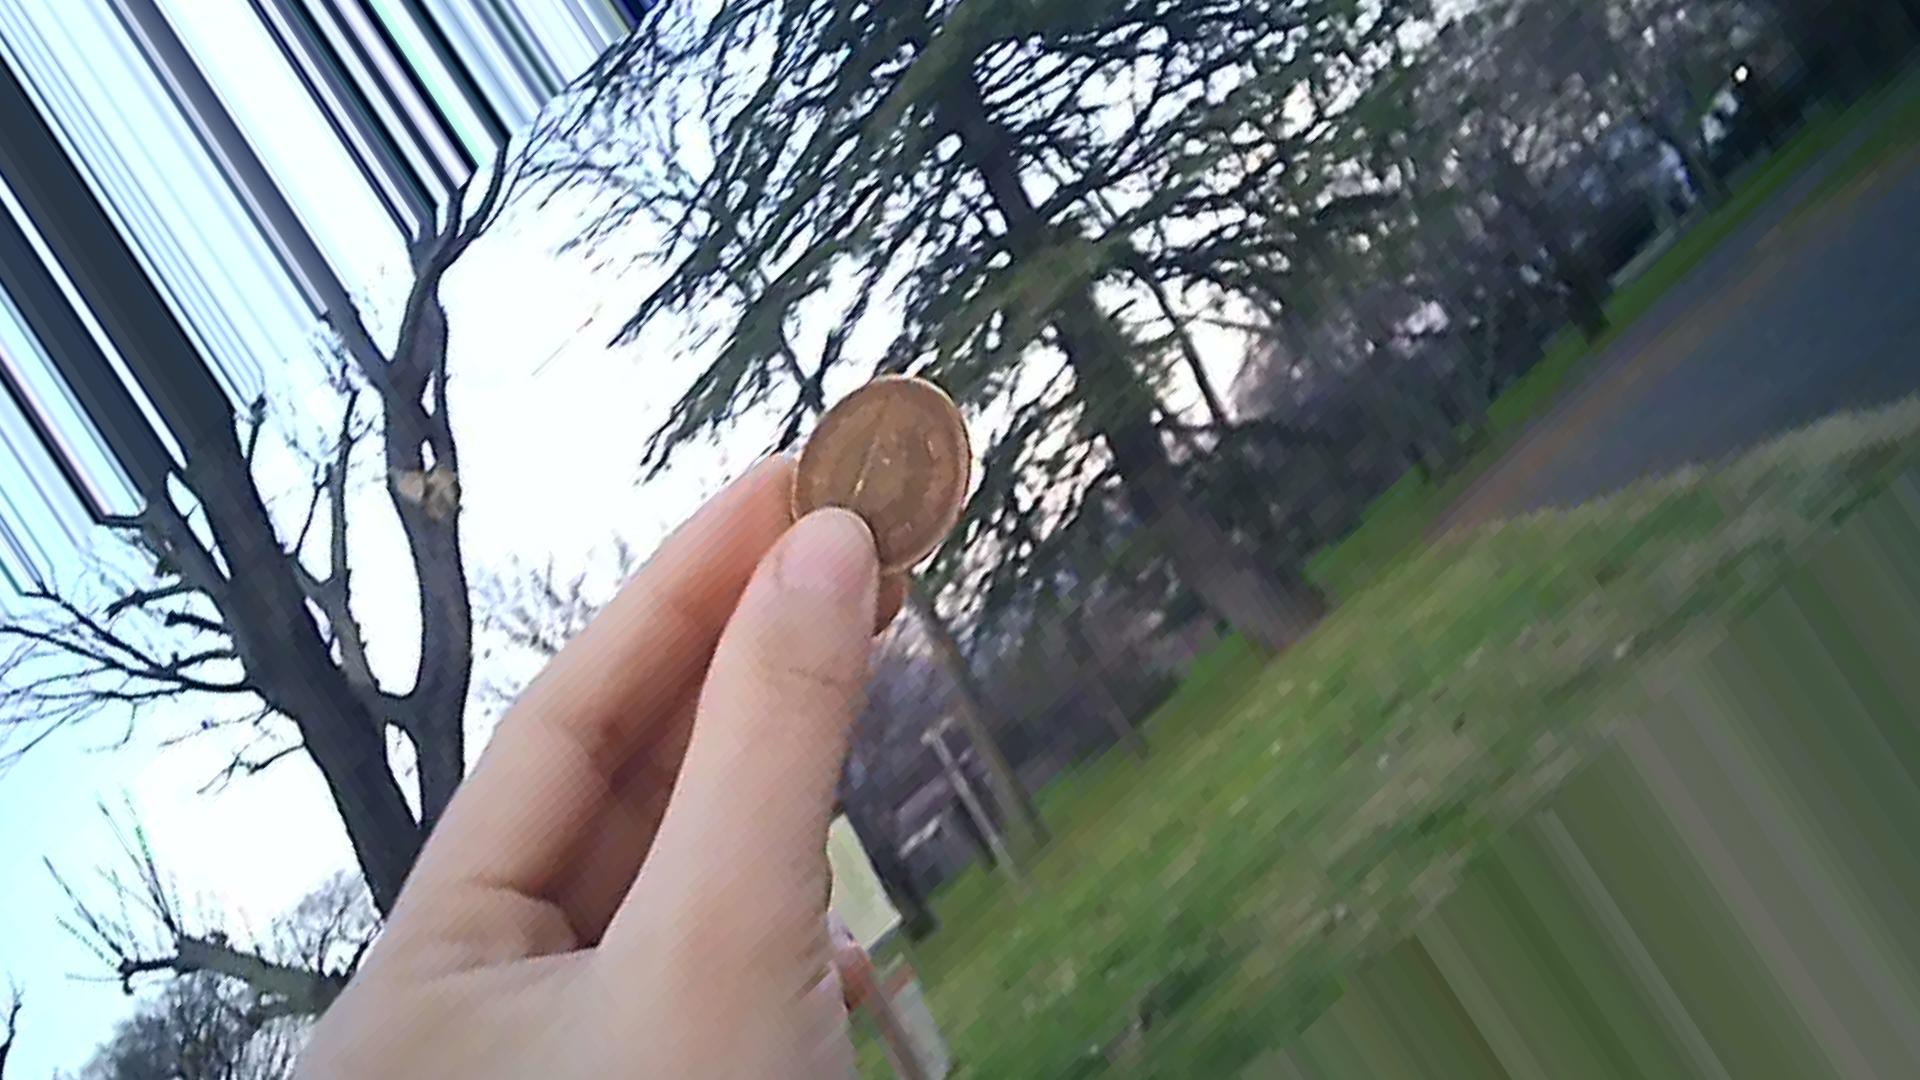10 Yen: (789, 375, 985, 589)
